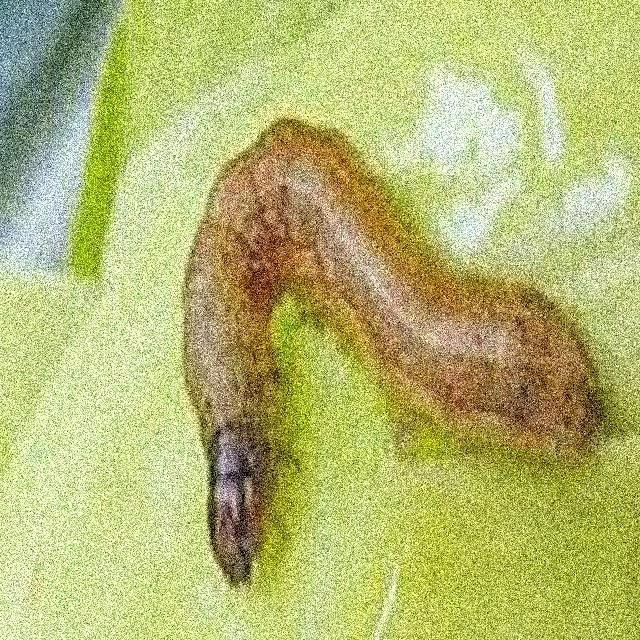gusano_cogollero: (176, 108, 604, 582)
